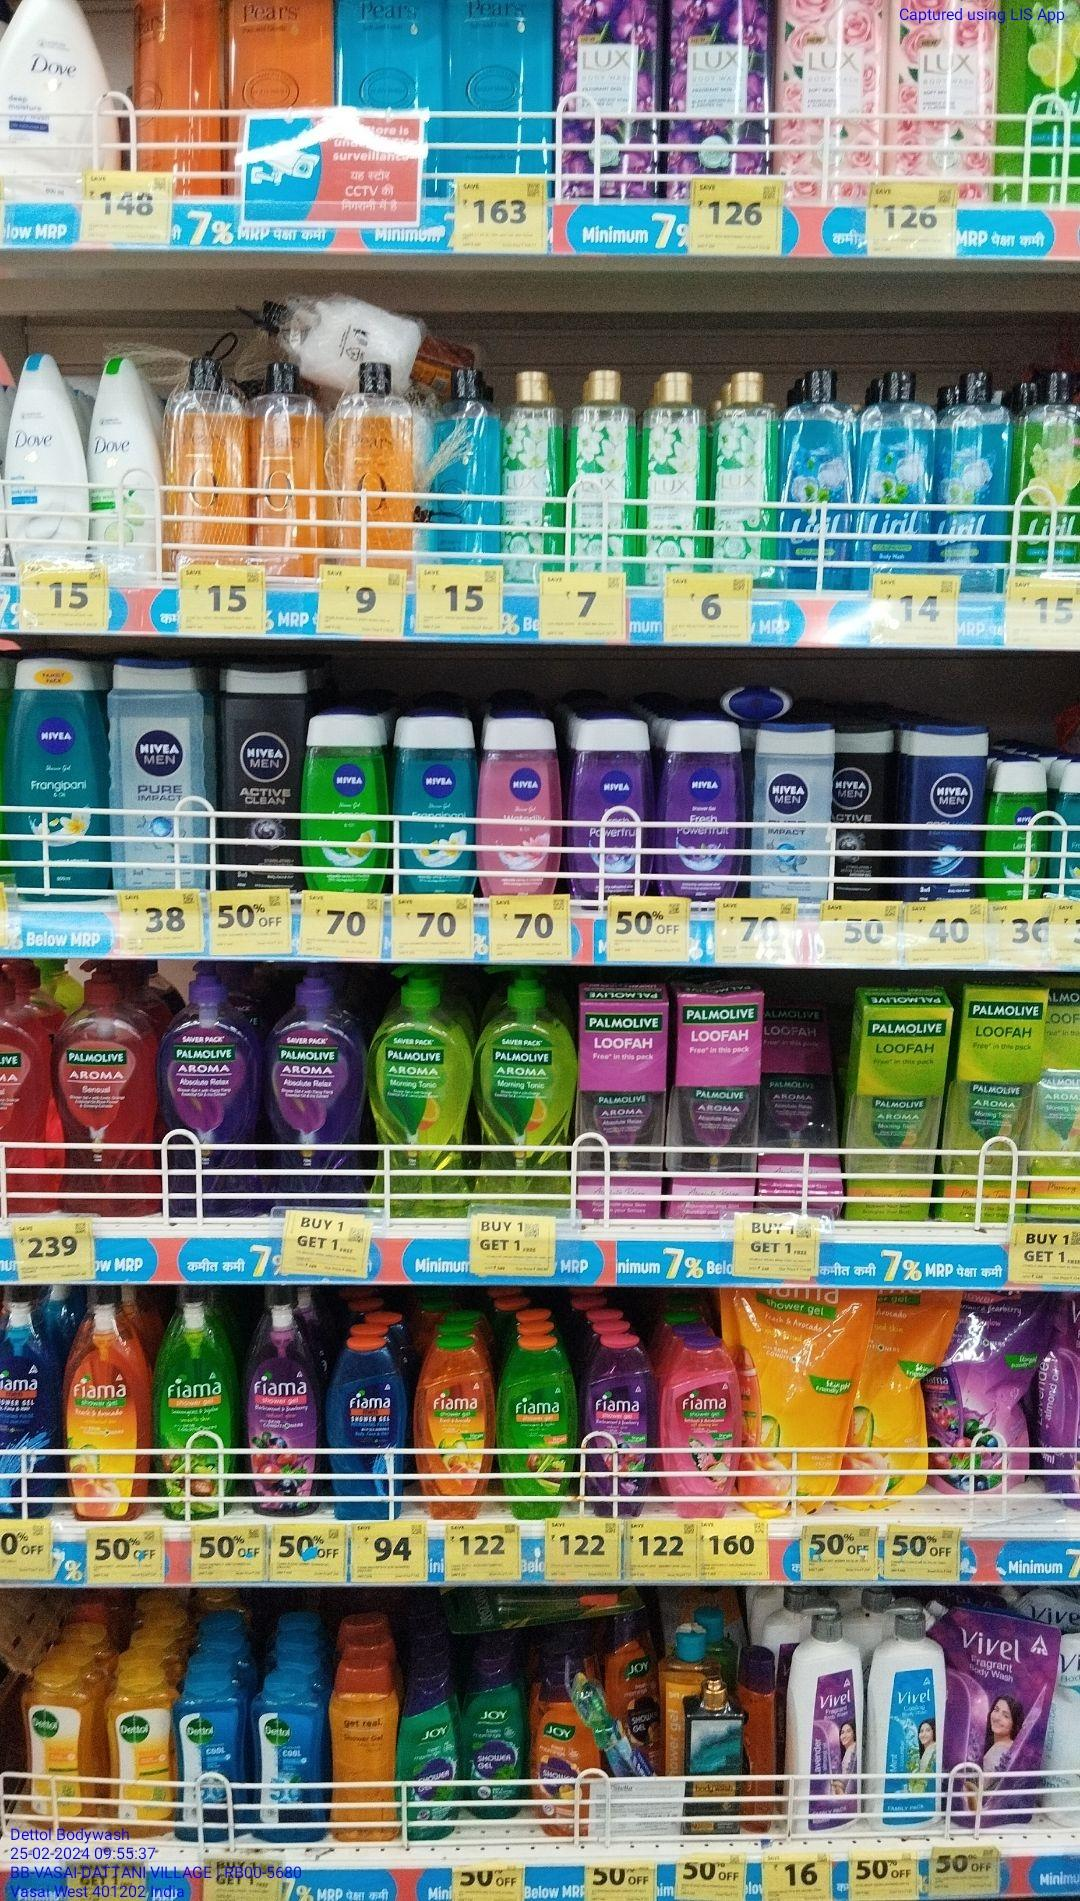Dettol_Bodywash_Cool: (178, 1678, 255, 1841), (257, 1676, 326, 1841)
Dettol_Bodywash_Refresh: (103, 1669, 171, 1833), (21, 1669, 89, 1829)
Dove_Gentle_Exfoliating_Body_Wash_250ML: (3, 355, 89, 564)
Dove_Refreshing_Body_Wash_250ML: (90, 355, 163, 573)
Fiama_Shower_Gel_Lemongrass_and_Jojoba_250ML: (504, 1337, 580, 1521)
Fiama_Shower_Gel_Patchouli_and_Macadamia_250ML: (659, 1338, 739, 1521)
Fiama_Shower_Gel_Peach_and_Avocado_250ML: (417, 1336, 488, 1517)
Get_Real_Shower_Gel_Moisturising_Glycerin_300ML: (330, 1667, 401, 1842)
Joy_Shower_Gel_Mandarin_and_Lemongrass_250ML: (534, 1671, 596, 1838)
Joy_Shower_Gel_Mint_and_Eucalyptus_250ML: (466, 1656, 522, 1816), (405, 1662, 456, 1838)
Liril_Cooling_Mint_Body_Wash_250ML: (861, 371, 936, 588), (942, 371, 1012, 594), (785, 369, 855, 590)
Liril_Lime_and_Tea_Tree_Oil_Body_Wash_250ML: (1017, 371, 1080, 571)
Lux_Body_Wash_Skin_Detox_Freesia_Scent_and_Alove_Vera_245ML: (568, 369, 636, 577), (500, 368, 564, 574), (644, 373, 707, 580), (720, 371, 780, 585)
Nivea_Shower_Gel_Frangipani_and_Oil_250ML: (9, 659, 110, 890), (400, 718, 478, 893)
Nivea_Shower_Gel_Fresh_Powerfruit_250ML: (567, 726, 653, 896), (663, 721, 740, 898)
Nivea_Shower_Gel_Lemon_and_Oil_250ML: (300, 718, 389, 893)
Nivea_Shower_Gel_Waterlily_and_Oil_250ML: (486, 717, 559, 893)
